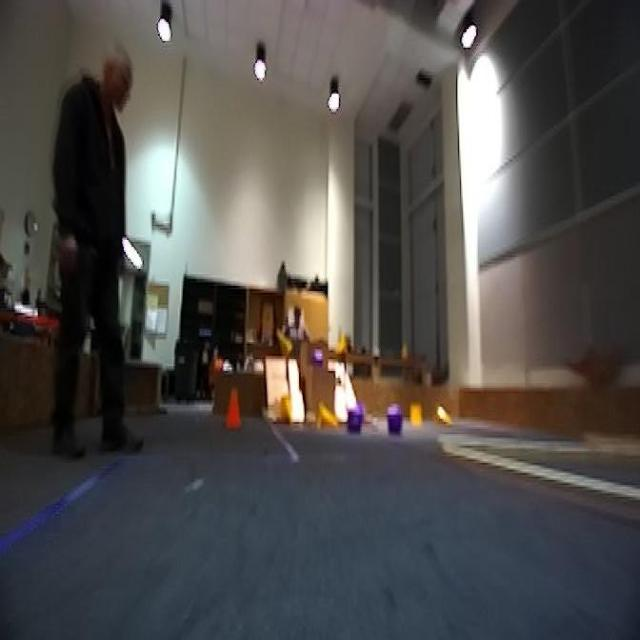frc_cone: (428, 400, 461, 436), (275, 327, 296, 359), (279, 393, 293, 426), (409, 402, 423, 429), (318, 403, 335, 424), (337, 325, 349, 354)
frc_cube: (350, 398, 364, 431), (386, 406, 402, 431), (310, 350, 326, 368)
